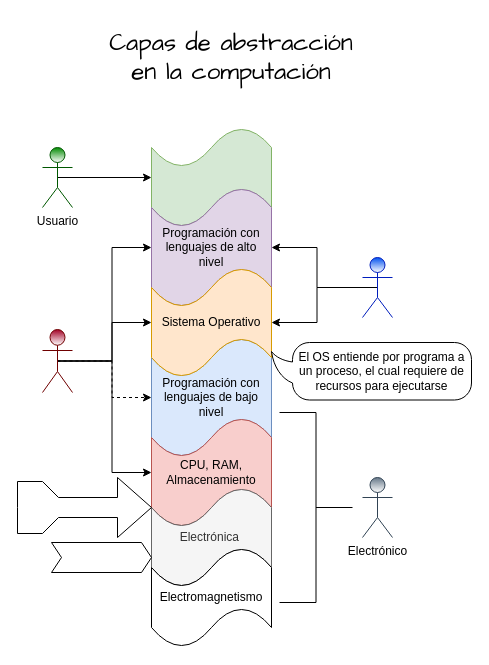
Some shapes in this 489 by 665 pixel diagram are drawn without their labels. Here are the shapes that lost their labels. From the top down, the centre of each, then its label:
At pixel 211 177: "Aplicación".
At pixel 377 287: "Desarrollador".
At pixel 57 360: "Administrador de Sistemas".
At pixel 84 507: "Circuitos Integrados".
At pixel 101 557: "Transistores".
